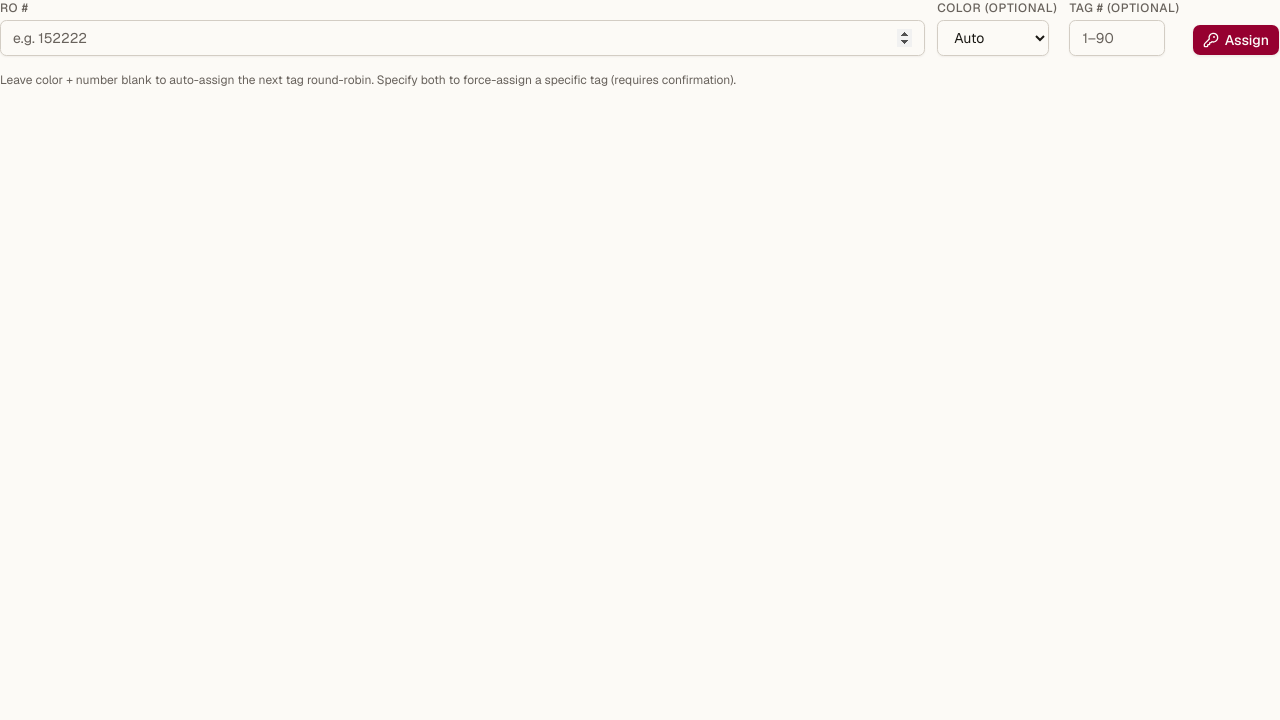
Test case: AssignKeytagForm › opens the Pattern A ConfirmationDialog when the action returns needs_confirmation
Type "152222" into the number field labelled "RO #". click: (463, 38)
box: left=0, top=20, right=925, bottom=56
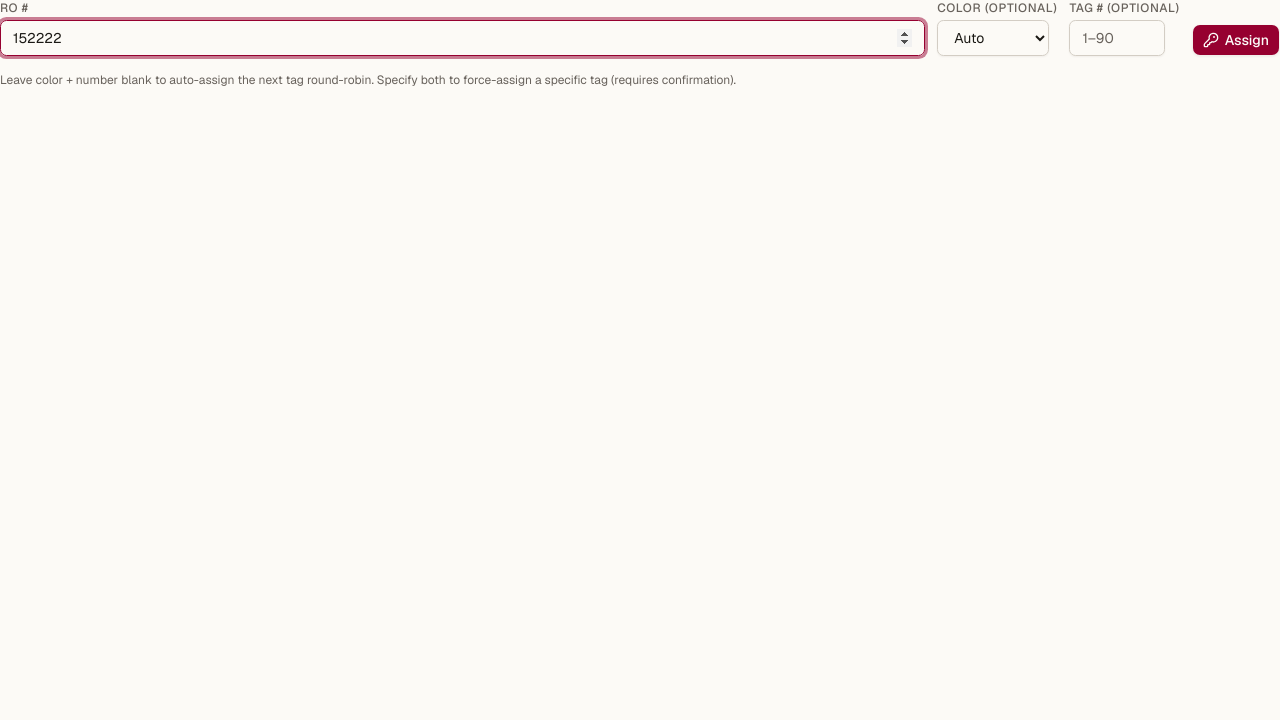
Click the button "Assign". click: (1236, 40)
box: left=1192, top=24, right=1279, bottom=56
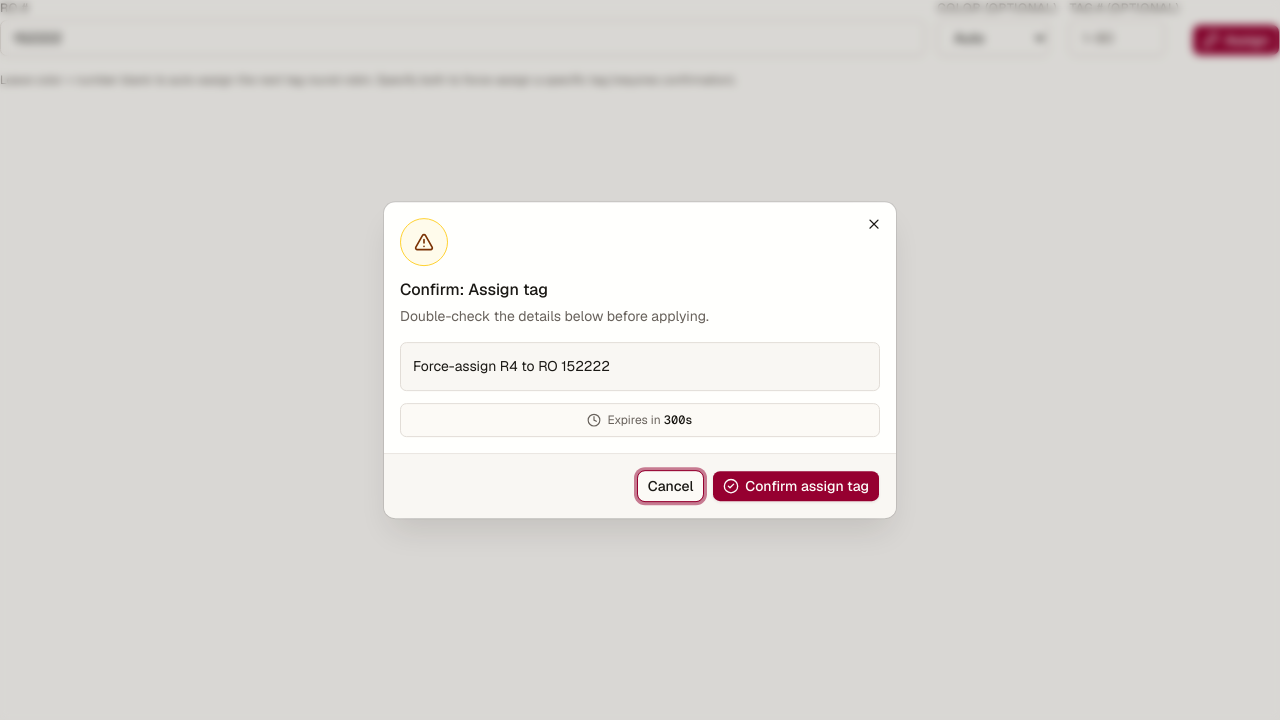
Result: the text "Force-assign R4 to RO 152222" is shown at left=413, top=357, right=610, bottom=375
